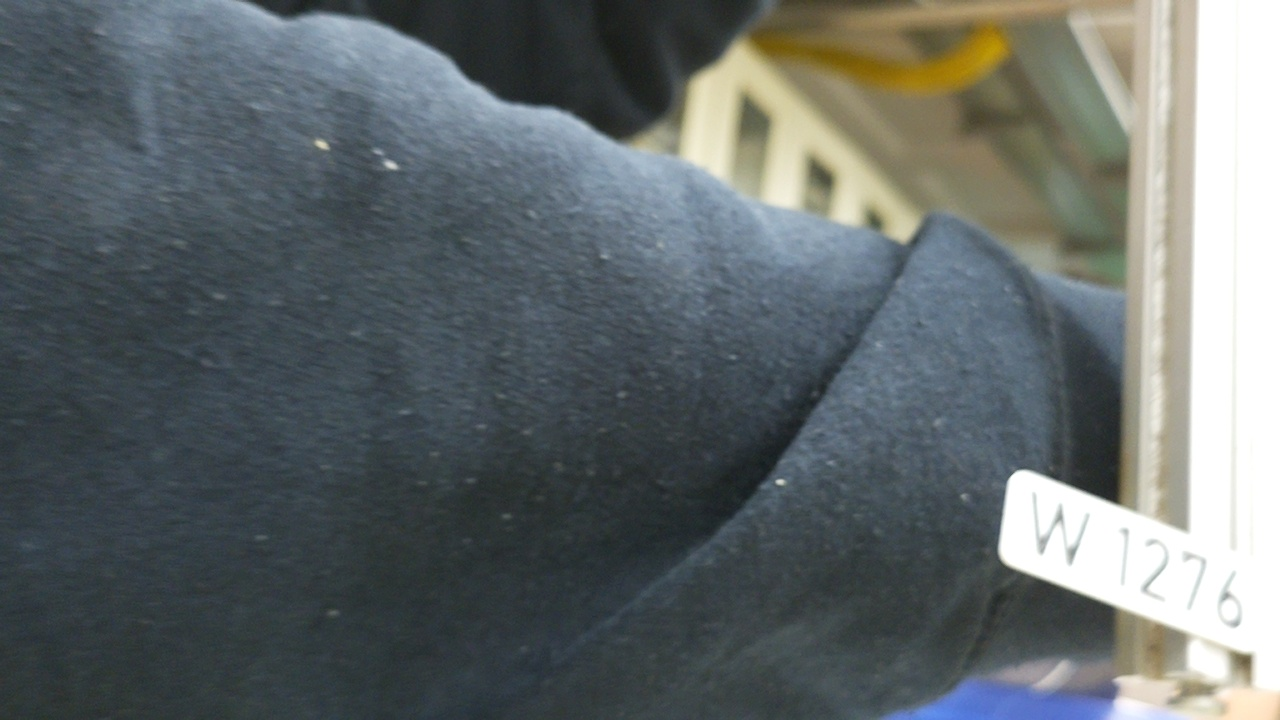license_plate: (991, 463, 1274, 654)
